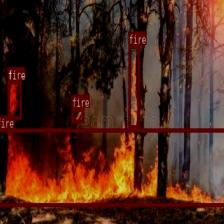fire: (0, 128, 224, 206), (128, 44, 139, 128), (8, 80, 22, 120), (72, 107, 84, 122)
